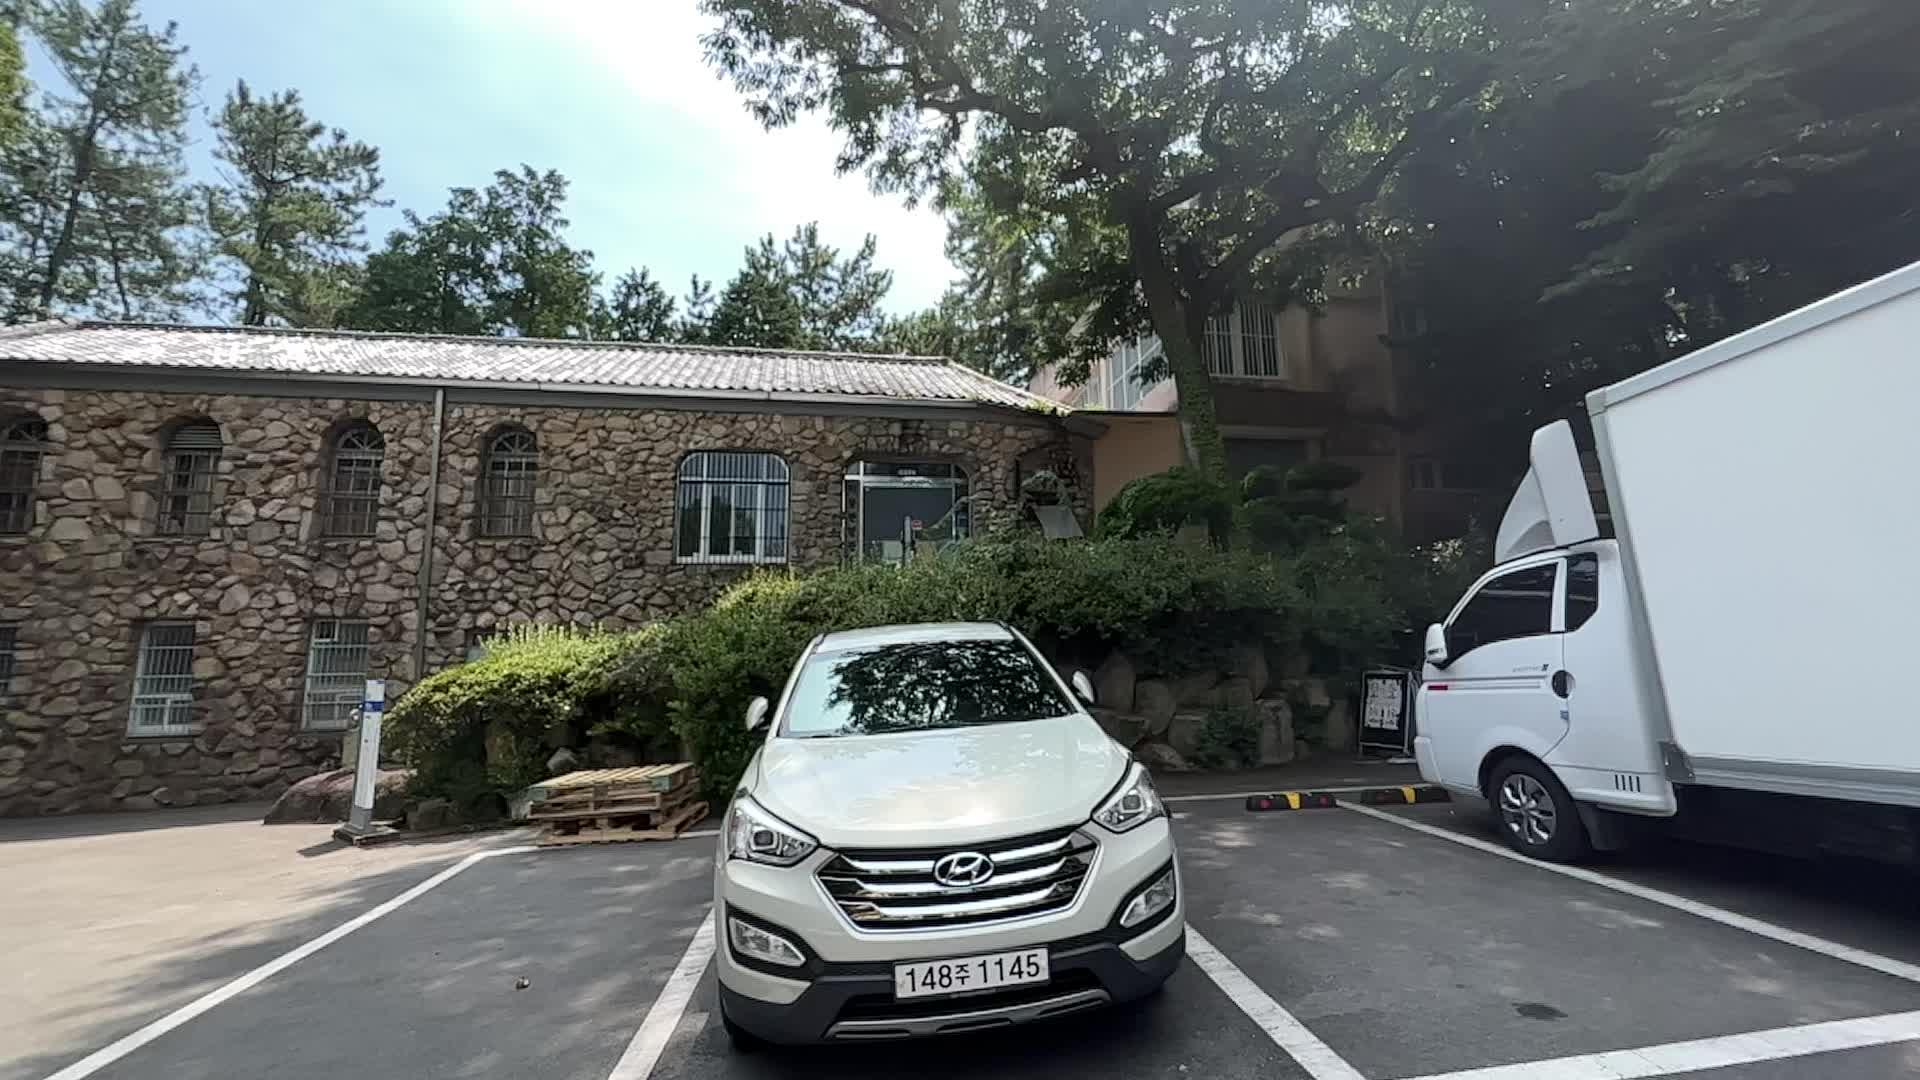building: (0, 344, 741, 791)
